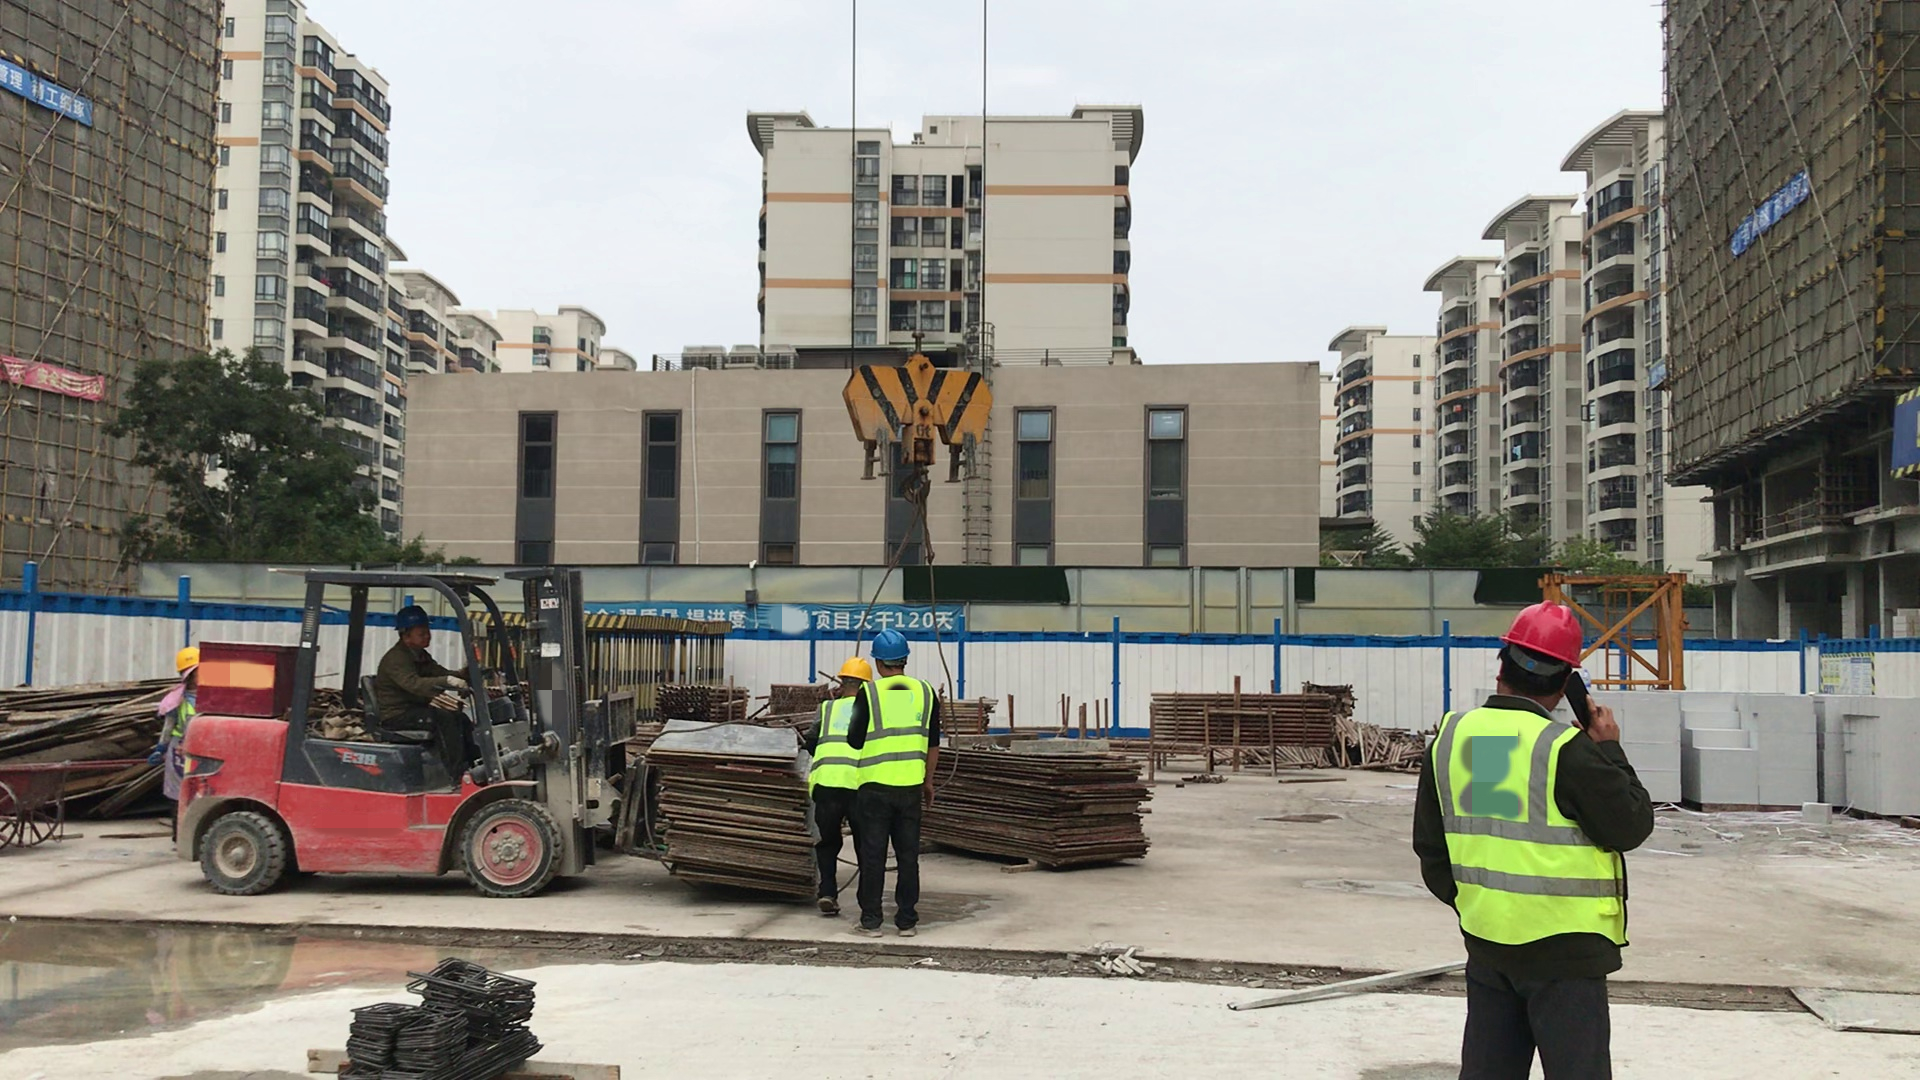board: (644, 705, 812, 909), (939, 735, 1156, 871)
brick: (1696, 689, 1823, 807), (1831, 692, 1920, 809), (1630, 683, 1685, 800)
handcart: (1, 758, 152, 848)
helmet: (1493, 597, 1583, 670), (834, 654, 875, 684), (869, 631, 915, 655), (391, 606, 430, 628)
hook: (835, 335, 1020, 497)
person: (1406, 598, 1666, 1080), (862, 631, 969, 931), (359, 608, 517, 794), (806, 656, 886, 920)
scaffold: (1152, 692, 1345, 755)
slogan: (605, 596, 983, 634), (1724, 175, 1816, 260), (1, 65, 86, 123), (1, 363, 118, 396)
vest: (1419, 704, 1627, 946), (862, 684, 927, 785), (814, 701, 863, 789)
